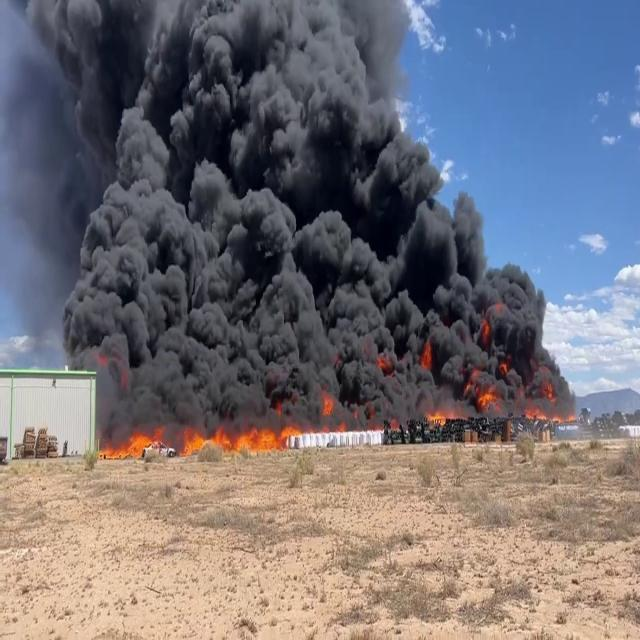Fire: (176, 416, 314, 456), (524, 378, 578, 426), (98, 422, 162, 459)
Smoke: (2, 1, 556, 417)
